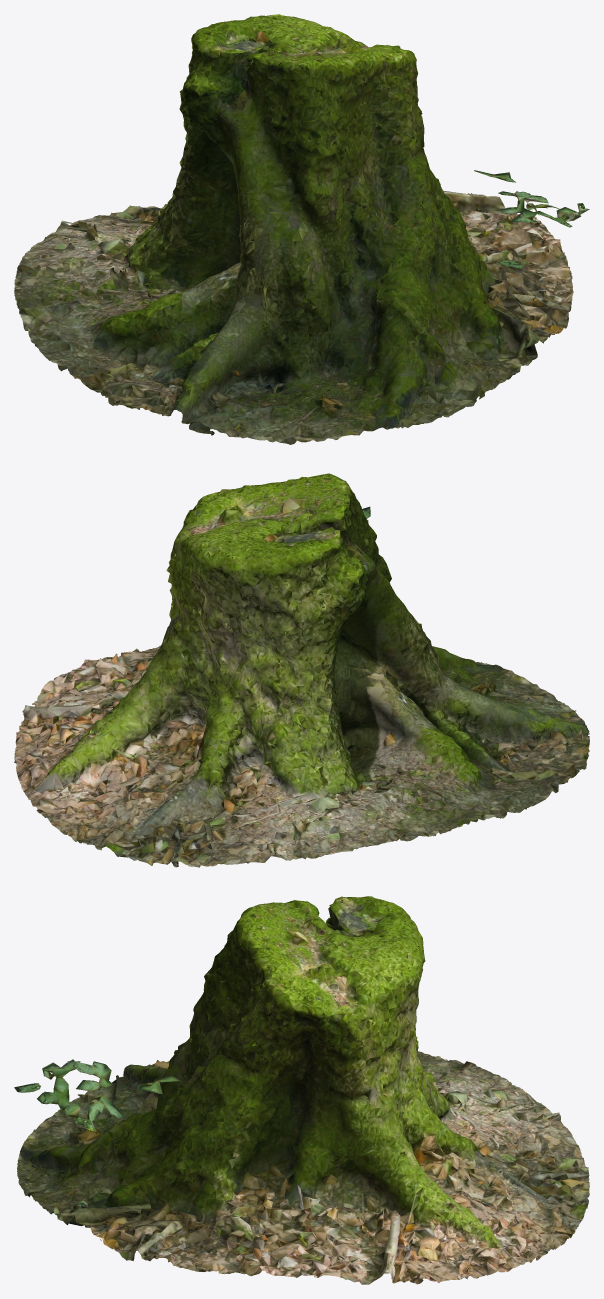
File: stump_mossy.glb
The picture shows the model from 3 angles, top to bottom: view 1: azimuth 30°, elevation 25°; view 2: azimuth 150°, elevation 25°; view 3: azimuth 270°, elevation 25°; orthographic projection. The views are drawn at different scales.
Visible parts, largest first — view 1: stump_mossy; view 2: stump_mossy; view 3: stump_mossy.
Part boxes in pixels (<box>): stump_mossy: <box>14,14,589,444</box>; stump_mossy: <box>14,473,589,867</box>; stump_mossy: <box>14,896,589,1284</box>.
Size of the model in its own units: 2.2 by 1.19 by 2.24.
Materials: 4 (4 with a texture image).
